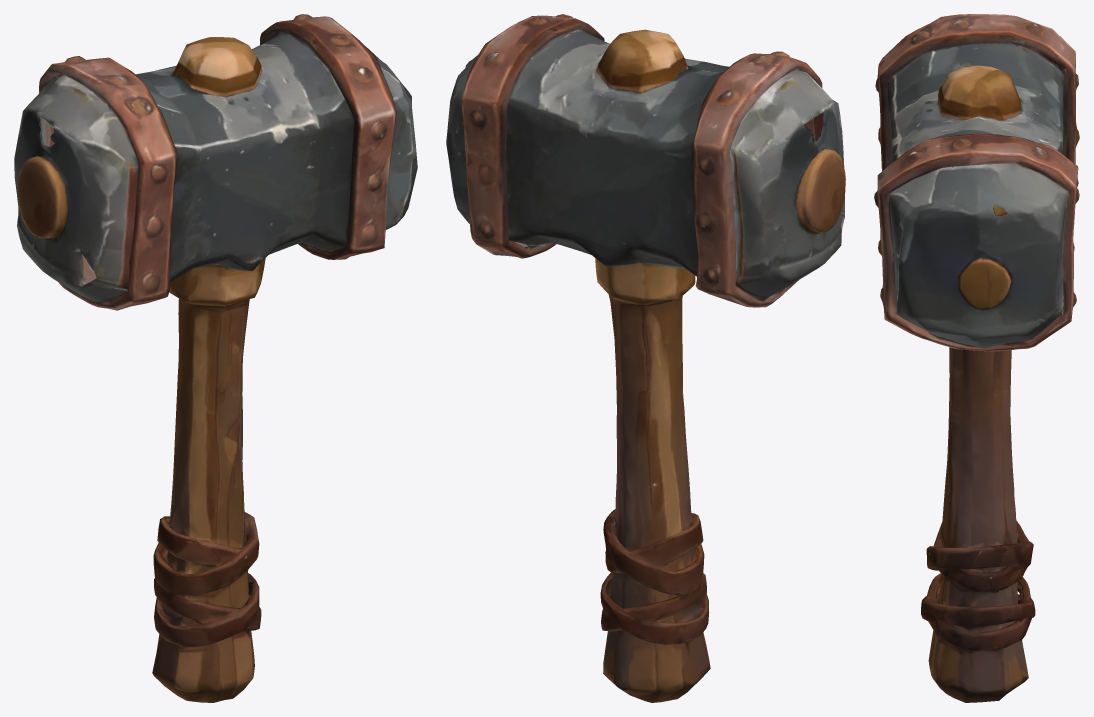
The model's file is brumm_hammer_PC.glb.
3 views of the same model, side by side, from view 1: azimuth 30°, elevation 25°; view 2: azimuth 150°, elevation 25°; view 3: azimuth 270°, elevation 25° (orthographic). The views are drawn at different scales.
Parts seen in each view (by area): view 1: brumm_hammer; view 2: brumm_hammer; view 3: brumm_hammer.
Boxes of the visible parts, left/top/right/bottom form: brumm_hammer: left=14, top=14, right=417, bottom=702; brumm_hammer: left=446, top=14, right=845, bottom=702; brumm_hammer: left=874, top=14, right=1079, bottom=702.
Size of the model in its own units: 0.5527 by 0.95 by 0.2844.
Materials: 1 (1 with a texture image).
